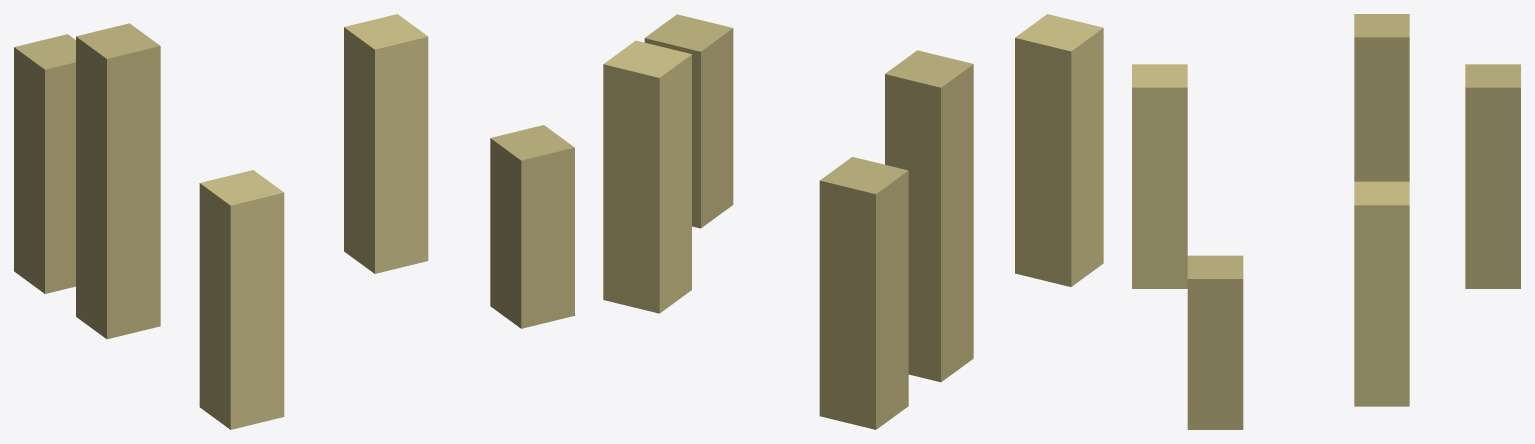
File: cebada_silvestre_01.glb
3 views of the same model, side by side, from view 1: azimuth 30°, elevation 25°; view 2: azimuth 150°, elevation 25°; view 3: azimuth 270°, elevation 25° (orthographic). The views are drawn at different scales.
Visible parts, largest first — view 1: cebada_silvestre_01; view 2: cebada_silvestre_01; view 3: cebada_silvestre_01.
Part boxes in pixels (box(x1,y1,x2,y2)): cebada_silvestre_01: box(14, 14, 574, 429); cebada_silvestre_01: box(603, 14, 1103, 429); cebada_silvestre_01: box(1132, 14, 1520, 429).
Bounding box in the file's own units: 0.7 × 0.5 × 0.7.
